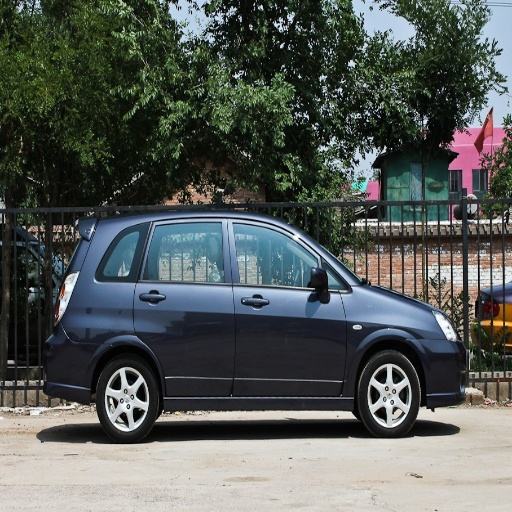back_right_door: (133, 218, 233, 395)
front_right_door: (231, 218, 348, 395)
